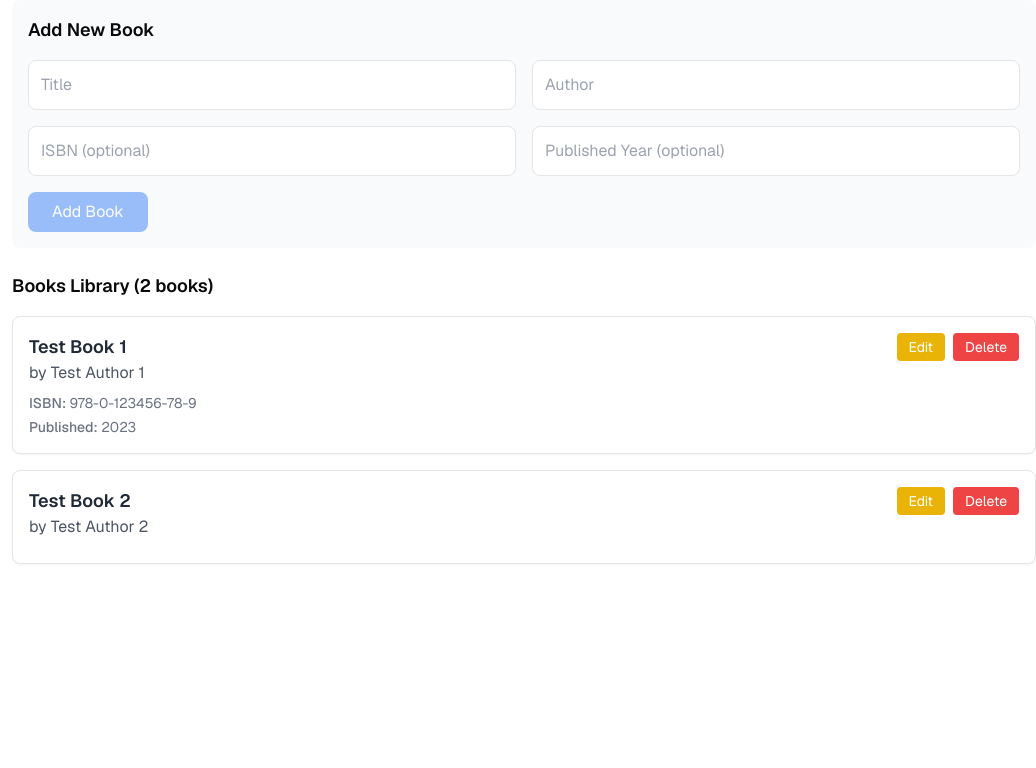
Test: BooksClient › enters edit mode when edit button is clicked
Click the button "Edit" in the row of "Test Book 1" at (921, 347), box [896, 333, 945, 361]
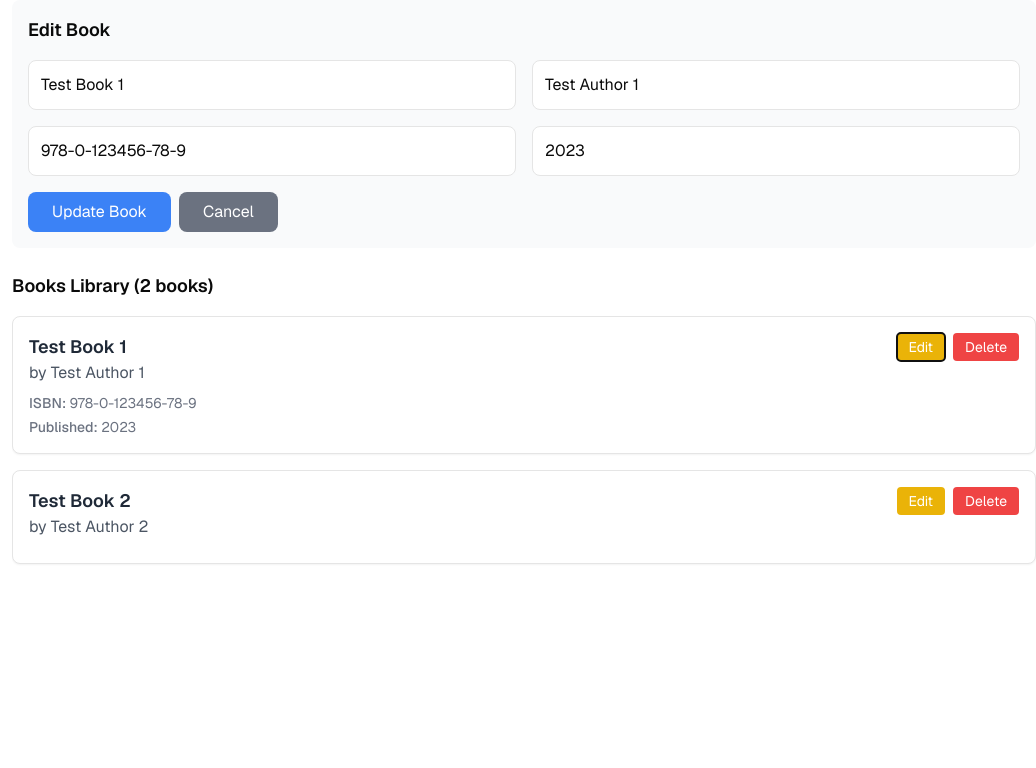
Check: the 1st field showing "Test Book 1" is shown, box [28, 60, 516, 110]
Check: the 2nd field showing "Test Author 1" is shown, box [532, 60, 1020, 110]
Check: the 3rd field showing "978-0-123456-78-9" is shown, box [28, 126, 516, 176]
